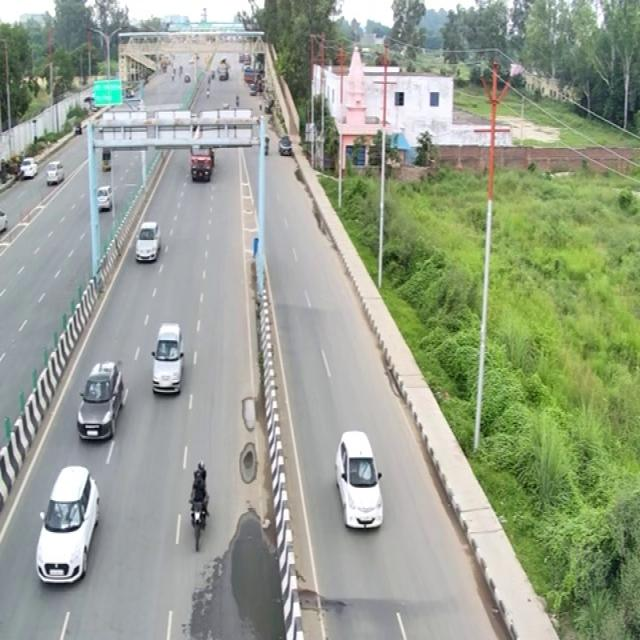car: (46, 348, 134, 439), (444, 322, 512, 399), (100, 266, 168, 331), (198, 238, 250, 298), (176, 162, 219, 199), (245, 105, 292, 138)
